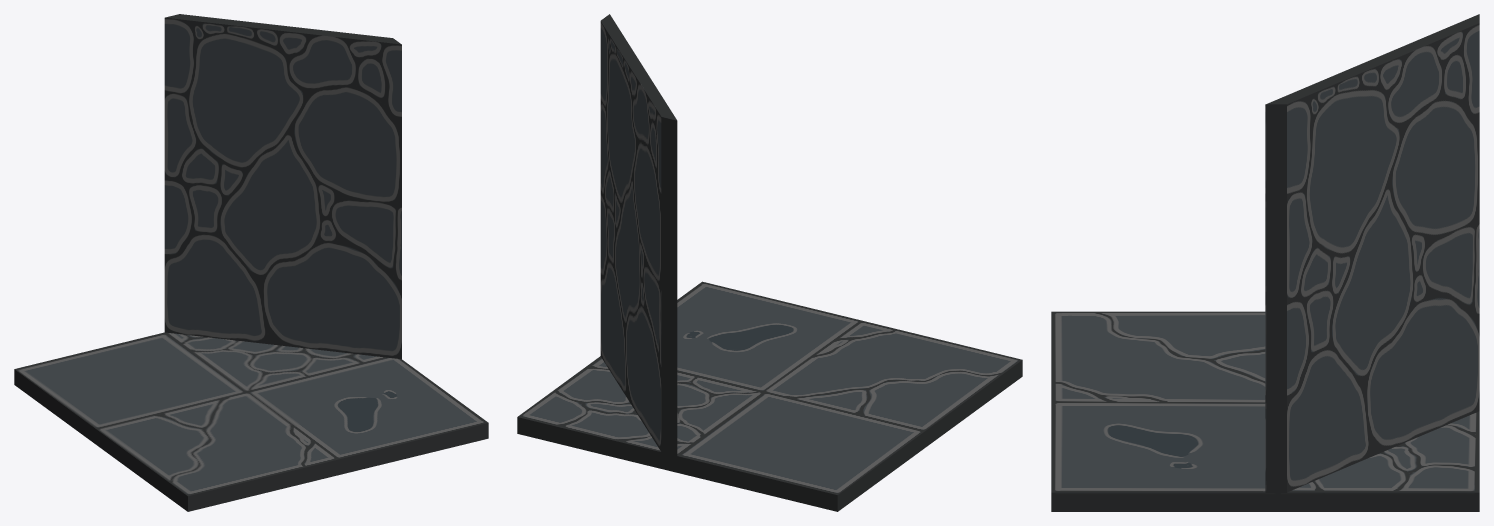
File: Opening-LCURVE-SW_v1.2.fbx
The picture shows the model from 3 angles, left to right: view 1: azimuth 30°, elevation 25°; view 2: azimuth 150°, elevation 25°; view 3: azimuth 270°, elevation 25°; orthographic projection. The views are drawn at different scales.
Parts seen in each view (by area): view 1: Wall-Curved-SW; view 2: Wall-Curved-SW; view 3: Wall-Curved-SW.
Part boxes in pixels (left/top/right/bottom): Wall-Curved-SW: left=14, top=14, right=488, bottom=511; Wall-Curved-SW: left=517, top=14, right=1022, bottom=511; Wall-Curved-SW: left=1051, top=14, right=1479, bottom=511.
Bounding box in the file's own units: 100 × 100 × 105.
